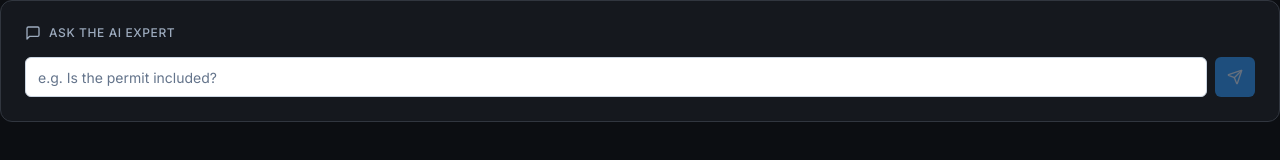
Test: QuoteQA › Button State › enables button when input has text
Type "test" into the field with placeholder "e.g. Is the permit included?" at x=616, y=77, box x1=25 y1=57 x2=1207 y2=97
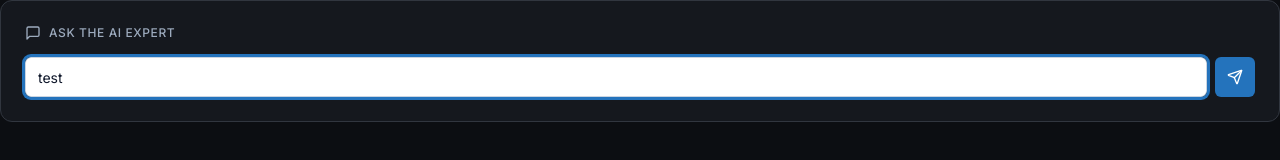
Expected: the button is enabled, x1=1215 y1=57 x2=1255 y2=97
